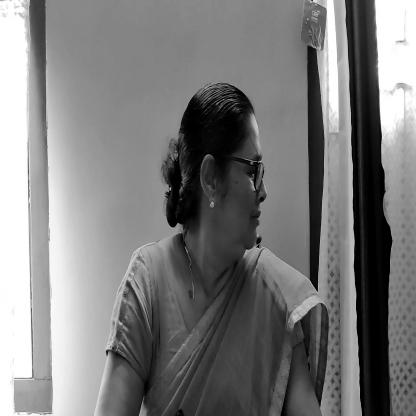Distracted: (178, 85, 270, 259)
